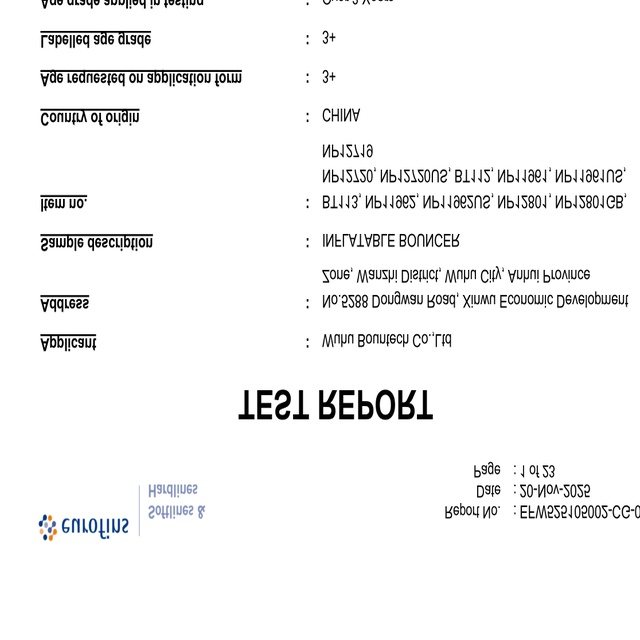eurofins: (31, 507, 134, 544)
